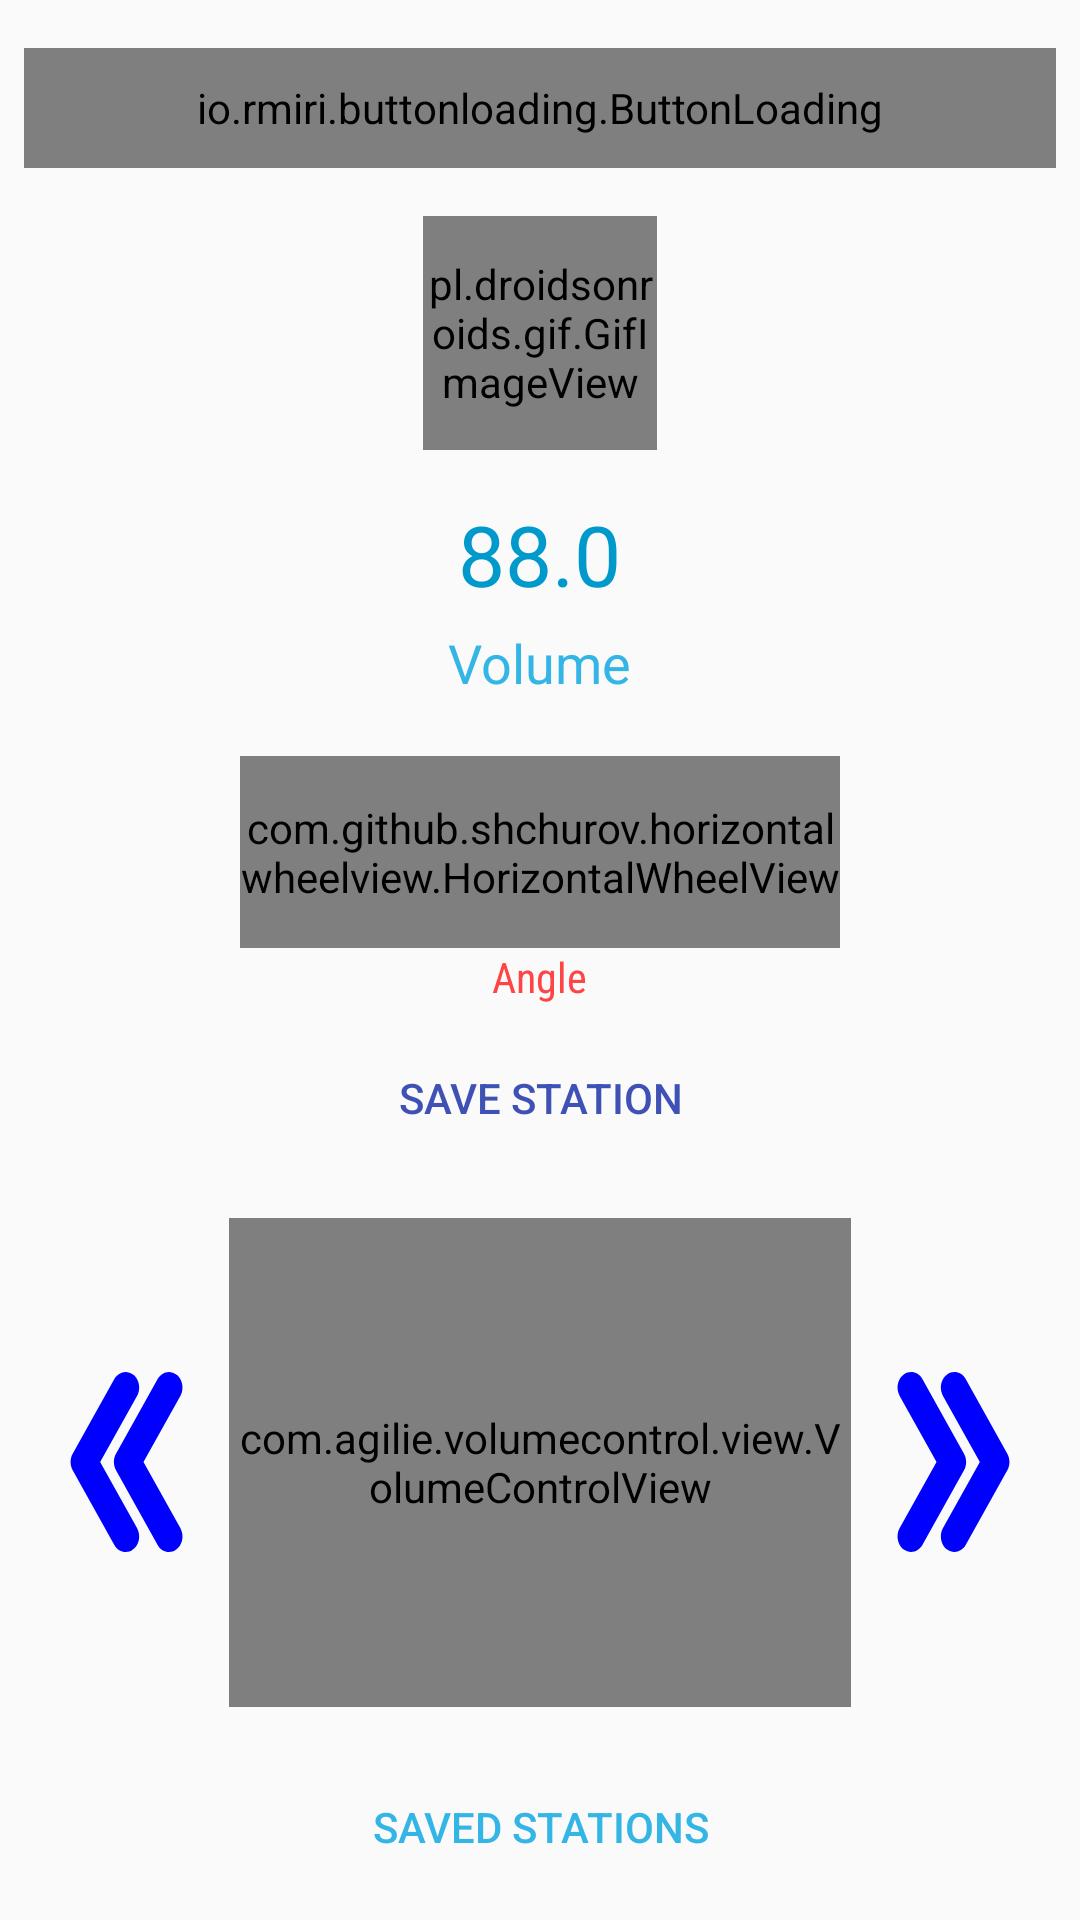

Locate icon controls on the screen. Image size 1080*1920, boxes as (x1,y1,x2,y2).
left arrow: (70,1372,183,1552)
